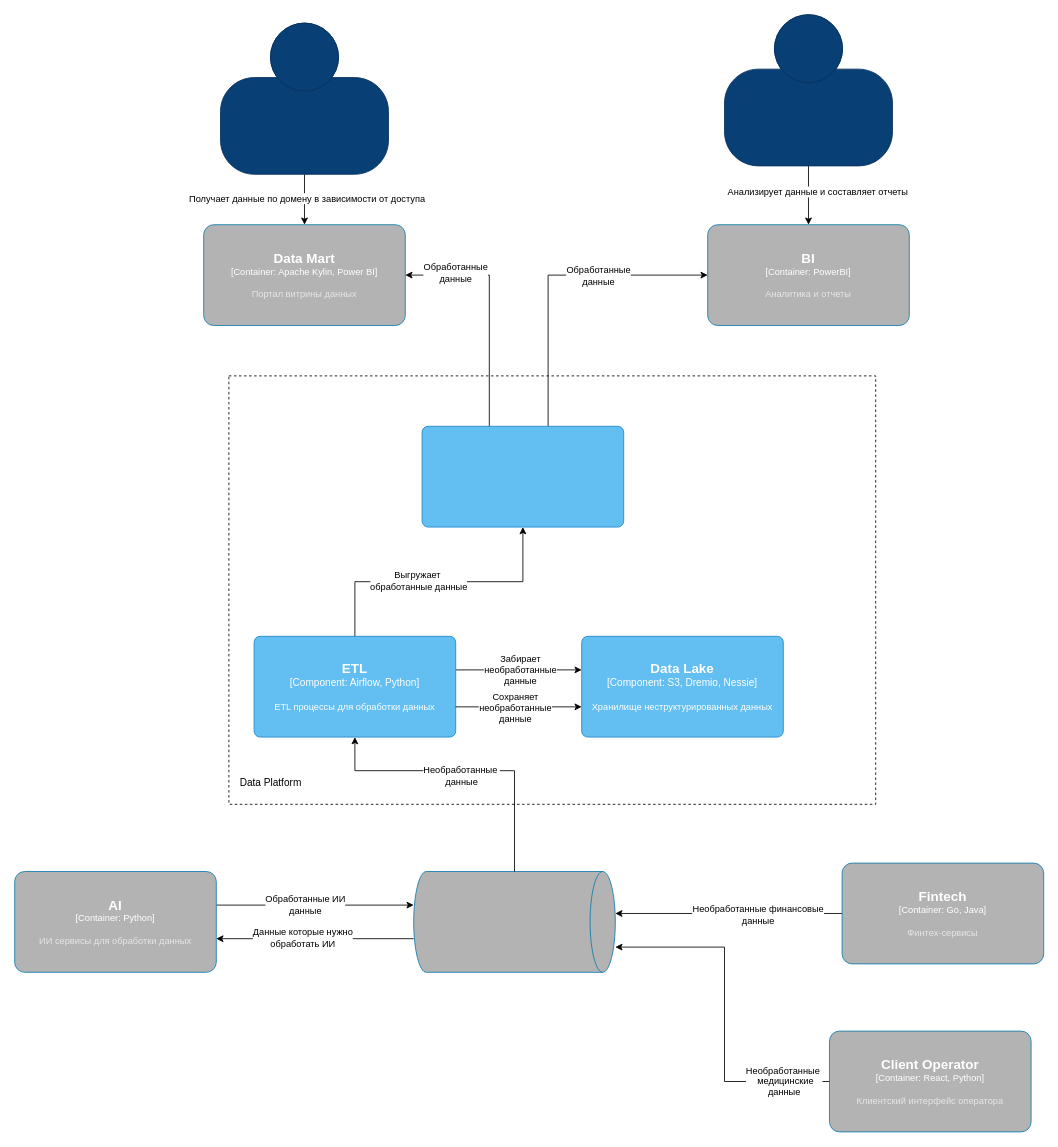
Image size: 1058x1147. Some labels were removed from this diagram. Each missing label, with the centre of its shape:
"DataBus [Container: Apache Kafka] Шина данных для обмена в компании" goes at (x=514, y=921).
"DWH [Component: Greenplum] Хранилище структурированных данных" goes at (x=522, y=476).
"Аналитик [Person] Аналитик компании" goes at (x=808, y=90).
"Сотрудник [Person] Сотрудник компании" goes at (x=304, y=98).
